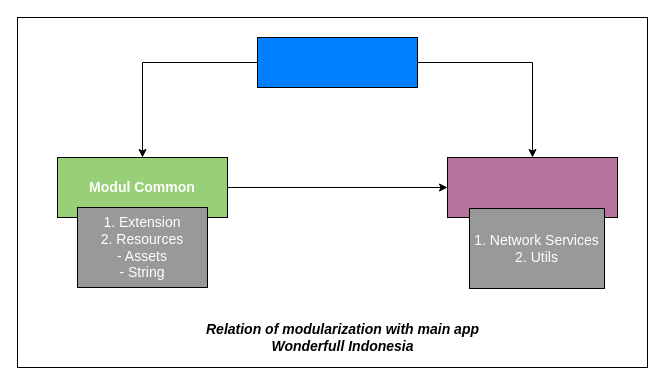
Image size: 665x385. Some labels were removed from this diagram. Each missing label, with the box of its shape:
Aplikasi Utama: (256, 36, 418, 88)
Modul Core: (446, 156, 618, 218)
